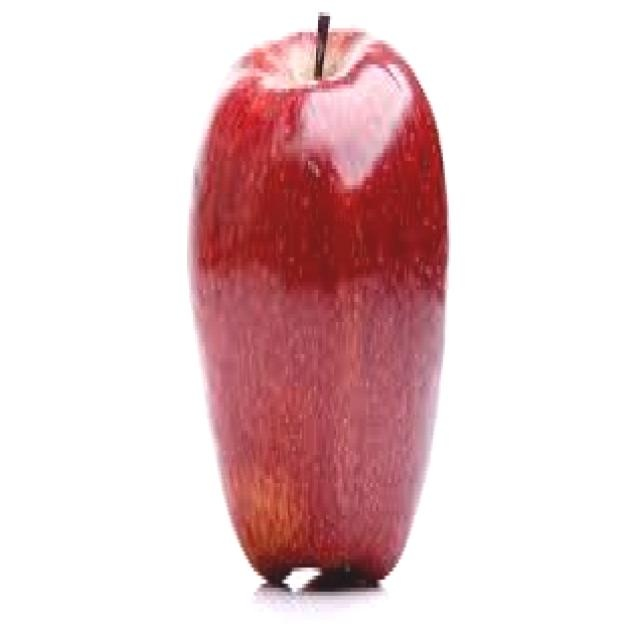agrume: (28, 0, 502, 640)
